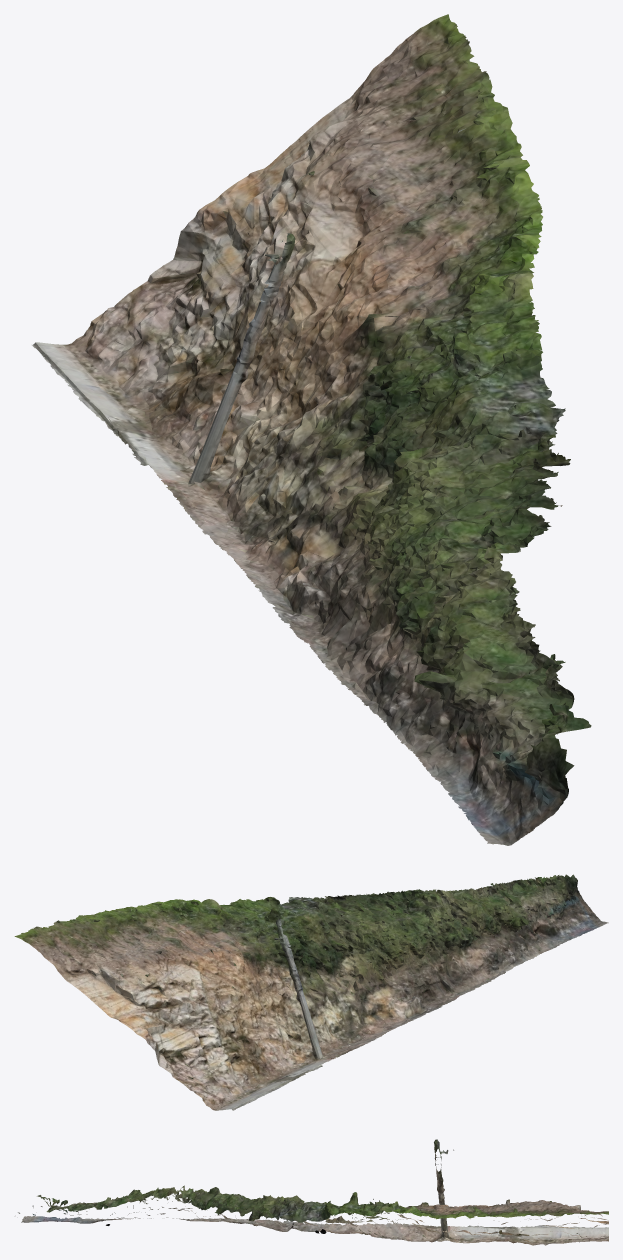
3 views of the same model, one above another, from view 1: azimuth 30°, elevation 25°; view 2: azimuth 150°, elevation 25°; view 3: azimuth 270°, elevation 25° (orthographic). The views are drawn at different scales.
Size of the model in its own units: 15.63 by 7.47 by 29.53.
1 material, 1 textured.
